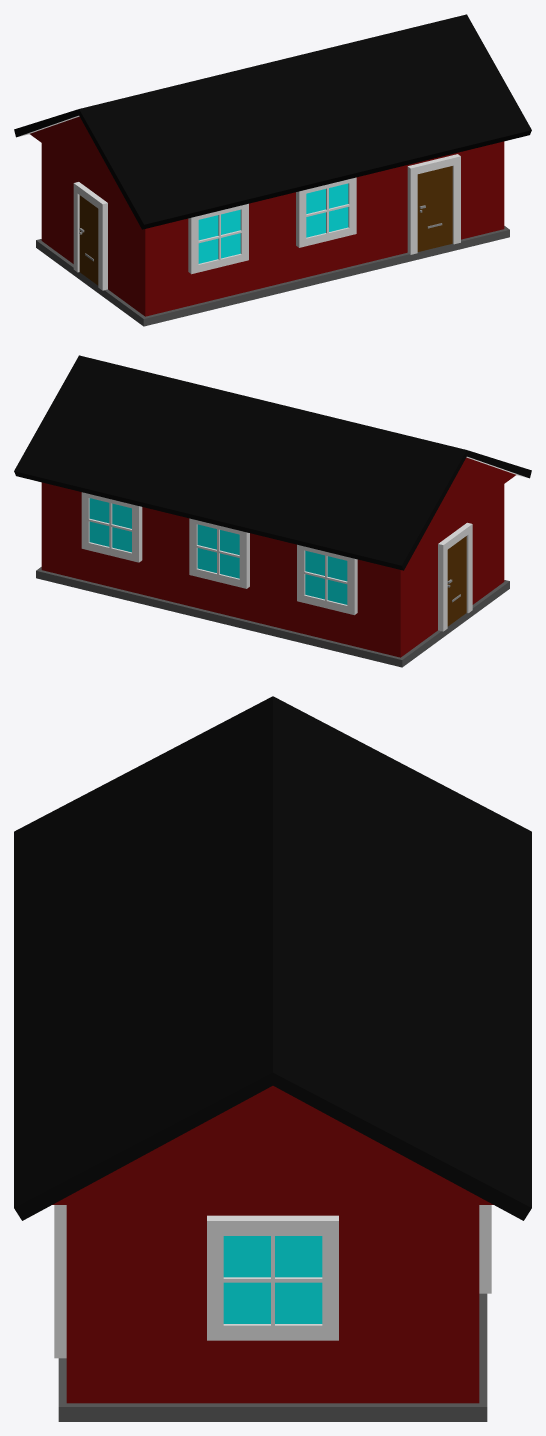
File: house_001_connected.fbx
3 renders of one model, top to bottom at view 1: azimuth 30°, elevation 25°; view 2: azimuth 150°, elevation 25°; view 3: azimuth 270°, elevation 25°, orthographic. The views are drawn at different scales.
Visible parts, largest first — view 1: Cube; view 2: Cube; view 3: Cube.
Boxes of the visible parts, bbox=[...] form: Cube: bbox=[14, 14, 531, 326]; Cube: bbox=[14, 355, 531, 667]; Cube: bbox=[14, 696, 531, 1421].
Bounding box in the file's own units: 1080 × 481 × 628.
